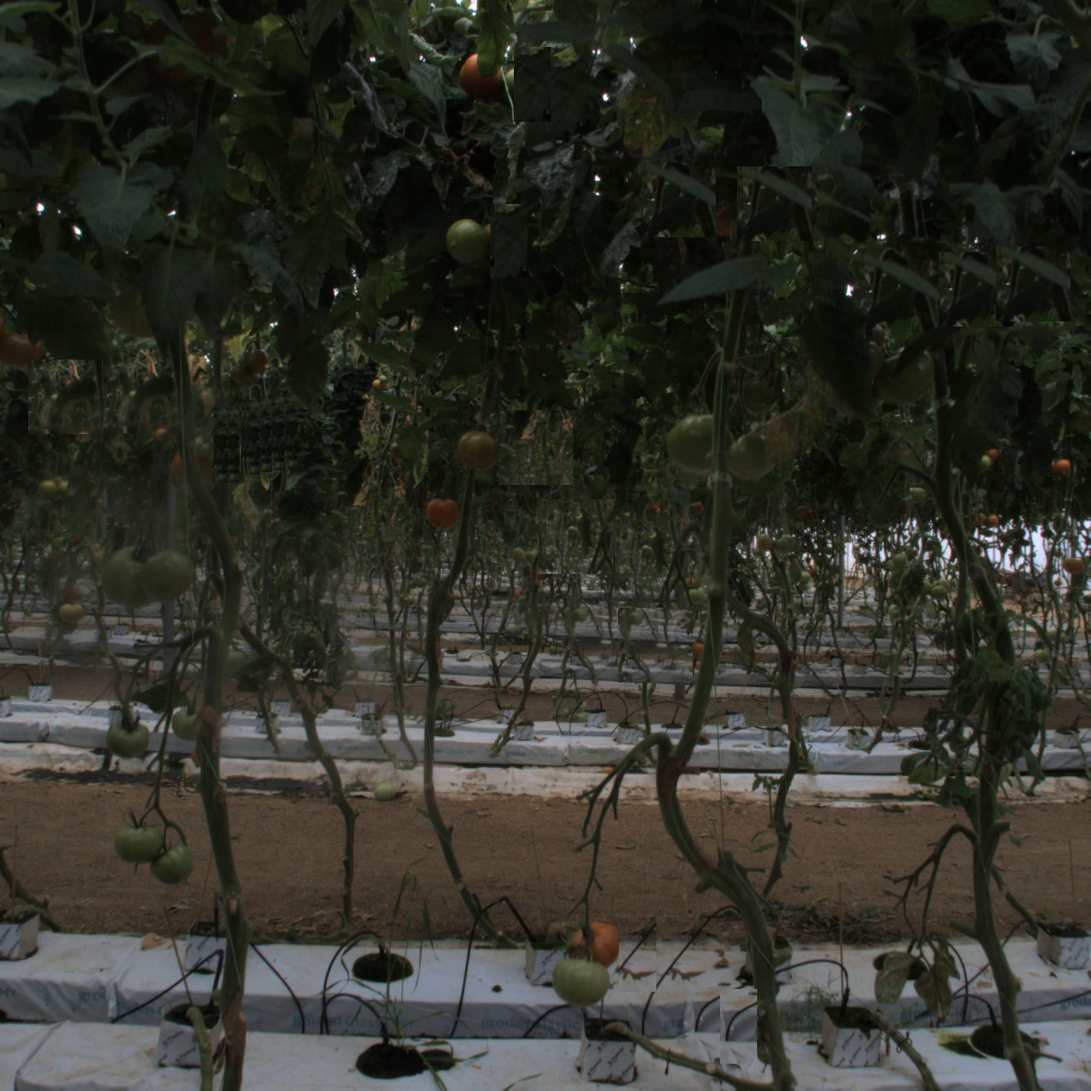['unripe', 'semi-ripe', 'fully-ripe']: (875, 344, 944, 413), (94, 542, 163, 611), (666, 410, 734, 478), (724, 429, 784, 489), (442, 218, 493, 268), (556, 955, 606, 1005), (146, 552, 196, 602), (151, 842, 192, 884), (117, 820, 158, 862)
